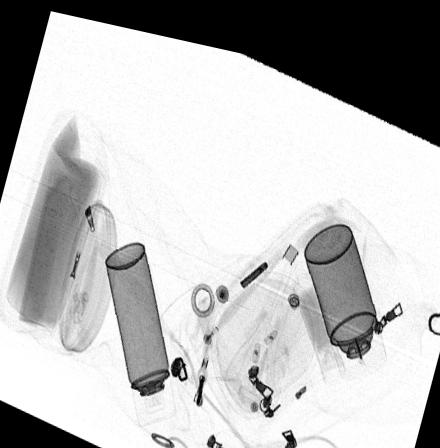Sprayer: (104, 235, 175, 418), (303, 207, 385, 364)
